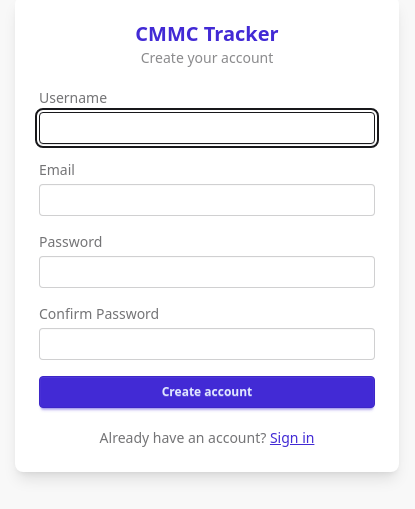
Scenario: RegisterPage › validates email format
The image size is (415, 509).
Check: the field labelled "Email" is shown, box [39,184,375,216]
Step 1. Type "testuser" into the field labelled "Username" → (207, 128), box [39,112,375,144]
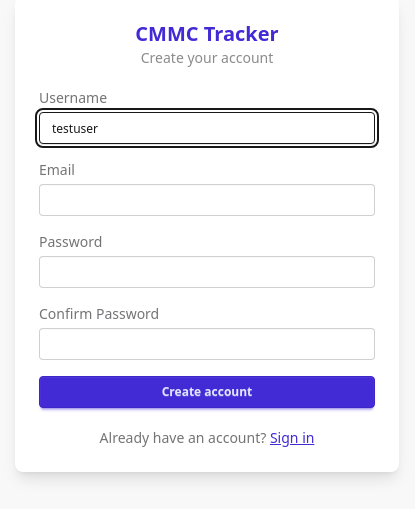
Step 2. Type "not-an-email" into the field labelled "Email" → (207, 200), box [39,184,375,216]
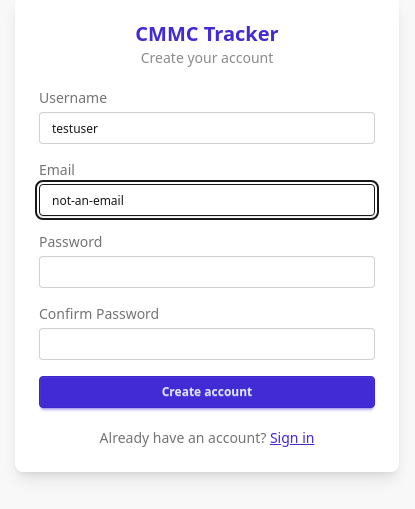
Step 3. Type "password123" into the password field labelled "Password" → (207, 272), box [39,256,375,288]
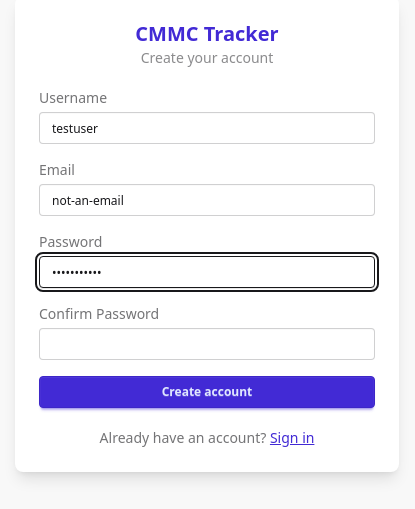
Step 4. Type "password123" into the password field labelled "Confirm Password" → (207, 344), box [39,328,375,360]
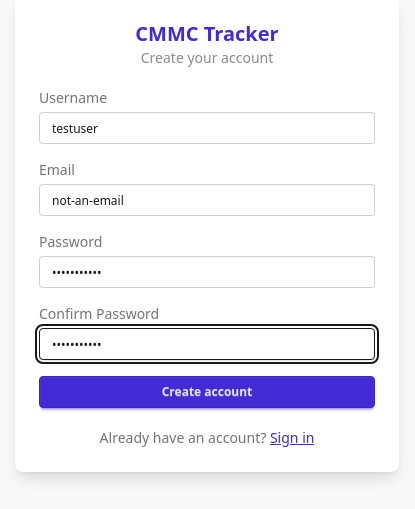
Step 5. Click the button "Create account" → (207, 392), box [39,376,375,408]
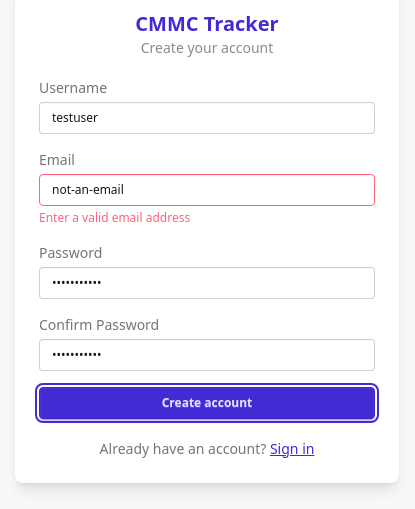
Check: the text "Enter a valid email address" is shown, box [39,208,190,226]
